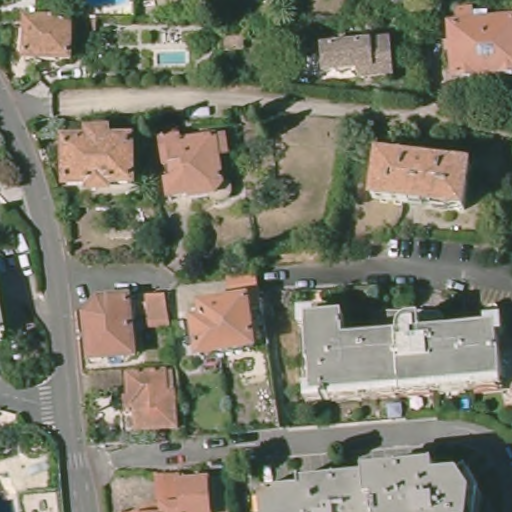pool: (155, 50, 191, 66), (84, 1, 133, 10)
